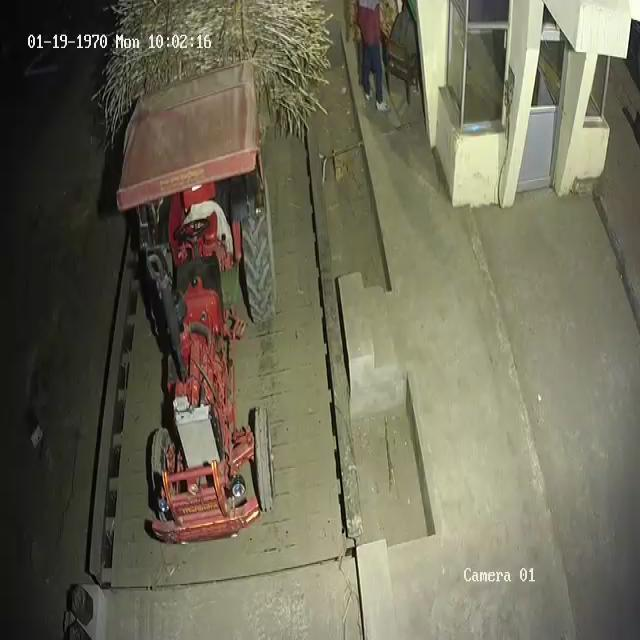Tratores - v5 YOLO V8L 2024-11-13: (126, 99, 272, 540)
